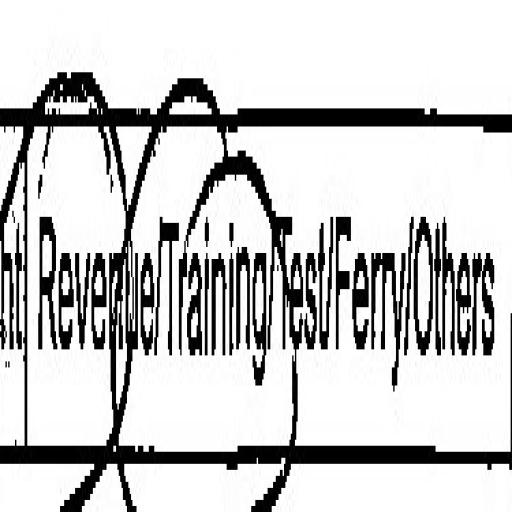check: (22, 0, 156, 512), (160, 0, 274, 512)
